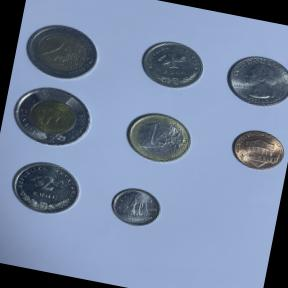coin: (4, 78, 98, 155), (16, 16, 105, 88), (1, 153, 89, 222), (118, 105, 199, 171), (219, 47, 288, 113), (224, 123, 288, 177), (105, 180, 167, 234)
